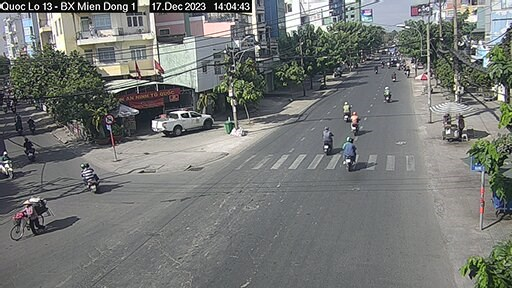car: (151, 110, 215, 137)
motorbike: (81, 164, 103, 194), (321, 124, 338, 158), (344, 139, 357, 171), (20, 138, 38, 161), (347, 114, 363, 136), (340, 99, 352, 124), (383, 83, 395, 107)
